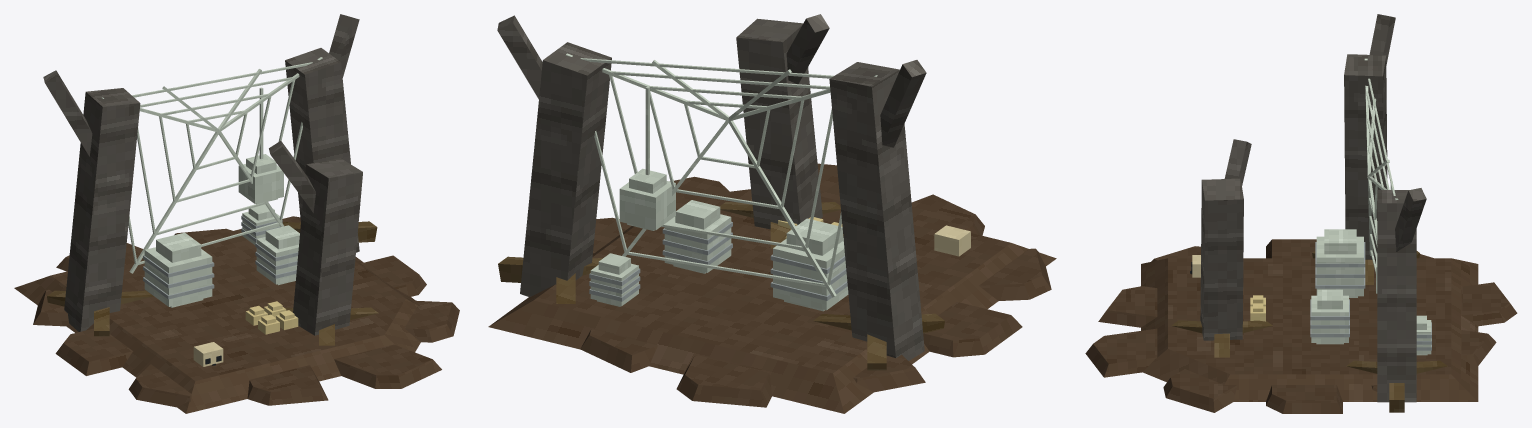
File: giant_spider_lair_v1.glb
3 views of the same model, side by side, from view 1: azimuth 30°, elevation 25°; view 2: azimuth 150°, elevation 25°; view 3: azimuth 270°, elevation 25° (orthographic). The views are drawn at different scales.
Visible parts, largest first — view 1: Model; view 2: Model; view 3: Model.
Boxes of the visible parts, x1=… form: Model: x1=14, y1=14, x2=459, y2=413; Model: x1=488, y1=14, x2=1056, y2=413; Model: x1=1085, y1=14, x2=1517, y2=413.
Size of the model in its own units: 1.31 by 0.894 by 1.41.
1 material, 1 textured.
